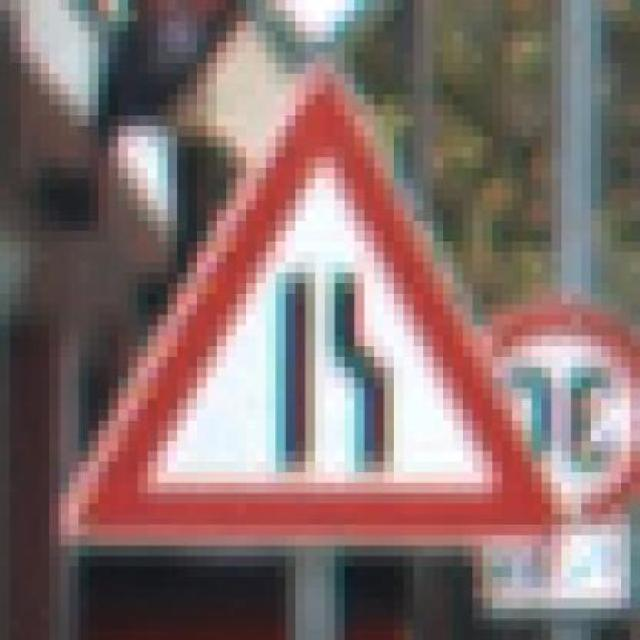-Road narrows on right: (49, 42, 582, 546)
